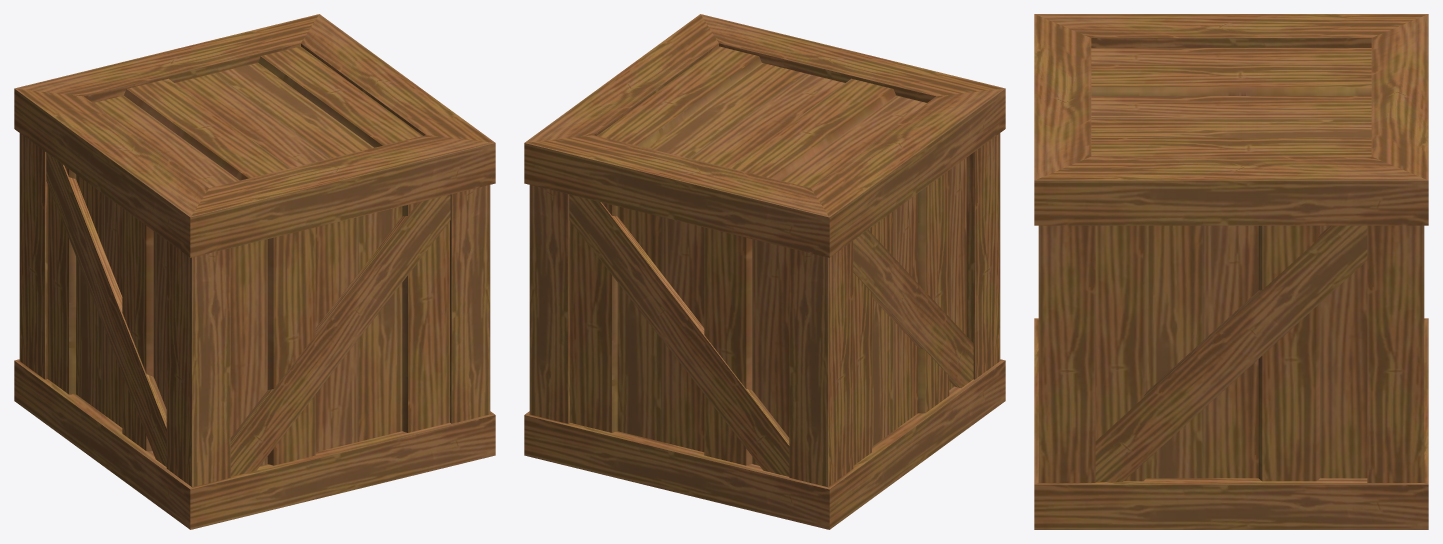
Rendered from Prop_Crate.glb.
The picture shows the model from 3 angles, left to right: view 1: azimuth 30°, elevation 25°; view 2: azimuth 150°, elevation 25°; view 3: azimuth 270°, elevation 25°; orthographic projection. The views are drawn at different scales.
Parts seen in each view (by area): view 1: Prop_Crate; view 2: Prop_Crate; view 3: Prop_Crate.
Boxes of the visible parts, x1,y1,x2,y2 form: Prop_Crate: [14, 14, 495, 529]; Prop_Crate: [524, 14, 1005, 529]; Prop_Crate: [1034, 14, 1428, 529].
Bounding box in the file's own units: 1.08 × 1.06 × 1.08.
1 material, 1 textured.
